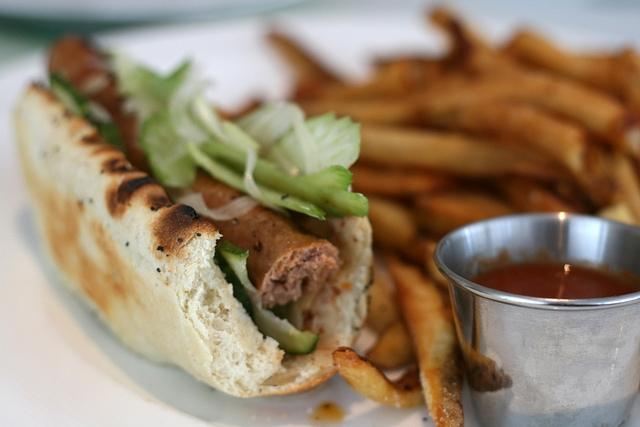cucumber: (218, 239, 322, 356), (50, 75, 90, 117), (96, 123, 126, 159)
